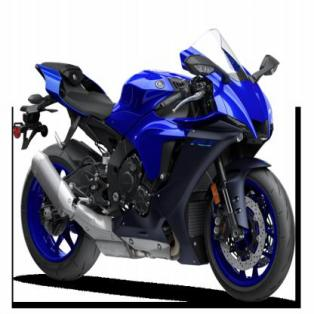Motocicleta: (9, 27, 296, 307)
